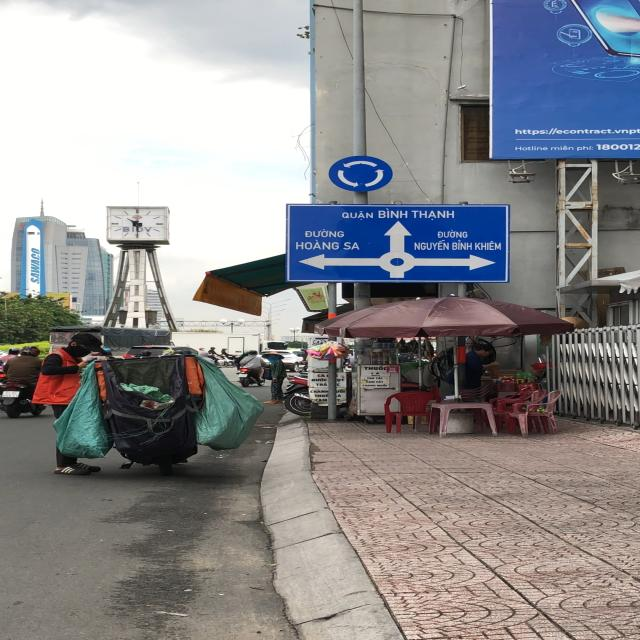Bien bao noi giao nhau chay theo vong xuyen: (324, 154, 400, 196)
